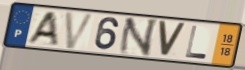6: (94, 16, 121, 52)
A: (24, 11, 60, 46)
L: (183, 25, 209, 61)
N: (116, 17, 161, 58)
V: (63, 11, 97, 51), (156, 19, 188, 59)
